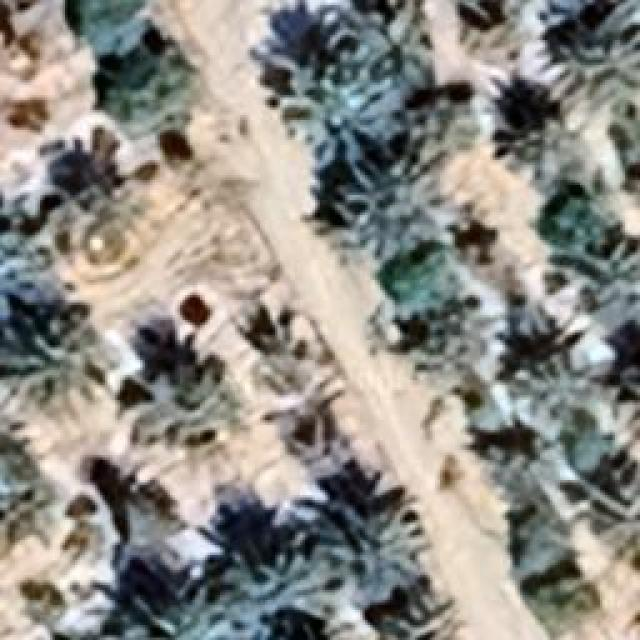PalmTree: (340, 160, 465, 255), (288, 68, 390, 180), (0, 320, 110, 422), (230, 550, 345, 638), (68, 478, 172, 574), (518, 354, 618, 444), (330, 510, 428, 600), (318, 8, 422, 92), (386, 296, 474, 384), (124, 565, 222, 640), (141, 358, 229, 440), (242, 311, 312, 404), (514, 318, 578, 412), (402, 89, 486, 159), (542, 30, 638, 90), (472, 415, 546, 490), (0, 458, 60, 548), (495, 108, 563, 184), (0, 232, 58, 320), (576, 230, 639, 310), (582, 482, 638, 570), (380, 592, 468, 638), (451, 0, 522, 52), (488, 0, 598, 28), (615, 332, 640, 423), (620, 352, 640, 445), (621, 346, 640, 426), (606, 0, 640, 35), (88, 85, 97, 194), (95, 75, 148, 89)
